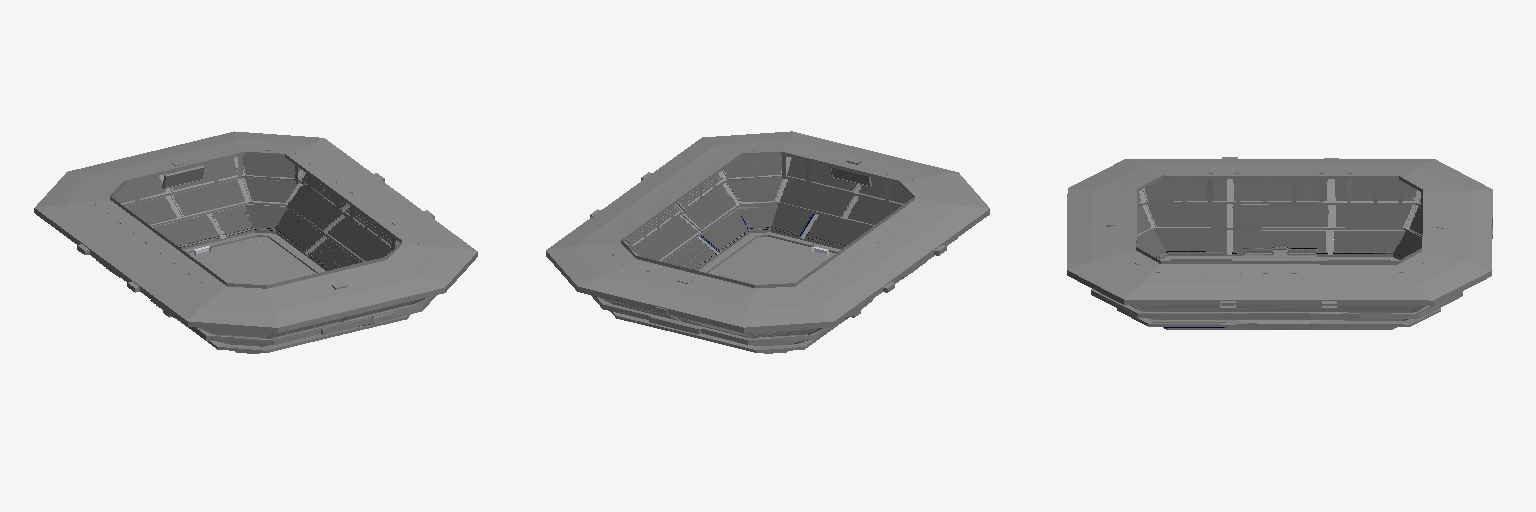
3 renders of one model, left to right at view 1: azimuth 30°, elevation 25°; view 2: azimuth 150°, elevation 25°; view 3: azimuth 270°, elevation 25°, orthographic.
Visible parts, largest first — view 1: top, tribune1, base1, tribune2, marking, stairs, stairsandscreen, flags, banner2; view 2: top, tribune1, base1, tribune2, marking, stairs, flags, stairsandscreen, banner2; view 3: top, tribune1, base1, tribune2, stairs, flags, banner2, banner1.
Boxes of the visible parts, x1,y1,x2,y2 form: top: [34, 131, 477, 338]; tribune1: [115, 155, 412, 345]; base1: [89, 175, 436, 353]; tribune2: [115, 159, 396, 345]; marking: [190, 238, 307, 284]; stairs: [121, 158, 420, 343]; stairsandscreen: [162, 161, 398, 316]; flags: [95, 149, 418, 297]; banner2: [123, 176, 391, 334]; top: [546, 131, 989, 338]; tribune1: [602, 156, 909, 345]; base1: [591, 176, 957, 353]; tribune2: [606, 155, 908, 345]; marking: [716, 238, 832, 284]; stairs: [599, 170, 903, 342]; flags: [612, 150, 928, 291]; stairsandscreen: [625, 158, 871, 317]; banner2: [633, 176, 902, 272]; top: [1067, 157, 1492, 312]; tribune1: [1136, 179, 1422, 327]; base1: [1091, 202, 1462, 329]; tribune2: [1133, 180, 1425, 326]; stairs: [1137, 179, 1421, 327]; flags: [1135, 173, 1423, 273]; banner2: [1139, 202, 1420, 260]; banner1: [1137, 228, 1421, 238].
Size of the model in its own units: 147 by 35.33 by 182.
Materials: 18 (1 with a texture image).